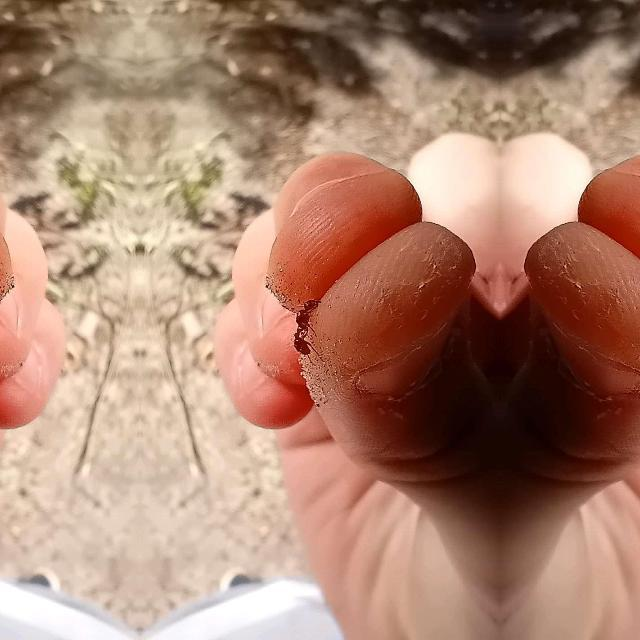Myrmica: (284, 285, 322, 359)
